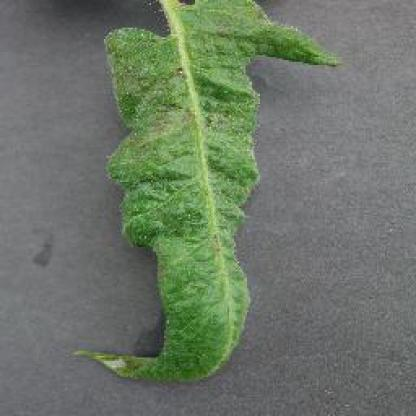bad leaf: (122, 0, 278, 406)
